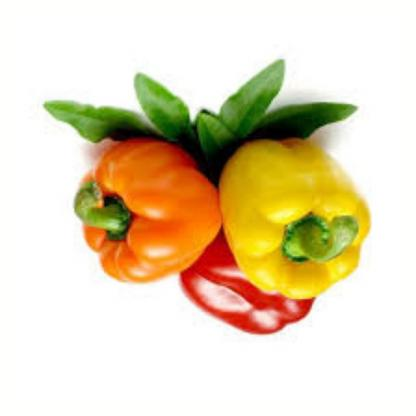bell pepper: (210, 135, 376, 308), (71, 126, 229, 293), (169, 224, 318, 341)
